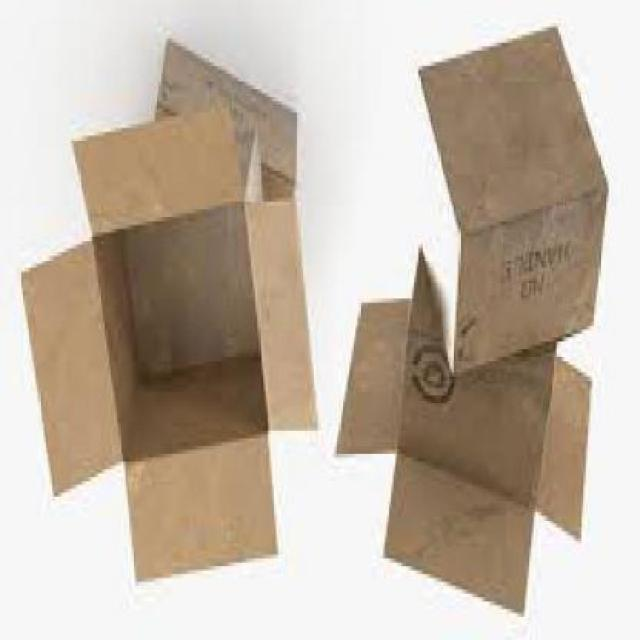CARDBOARD: (23, 105, 320, 586), (339, 256, 592, 621), (421, 31, 608, 380)
